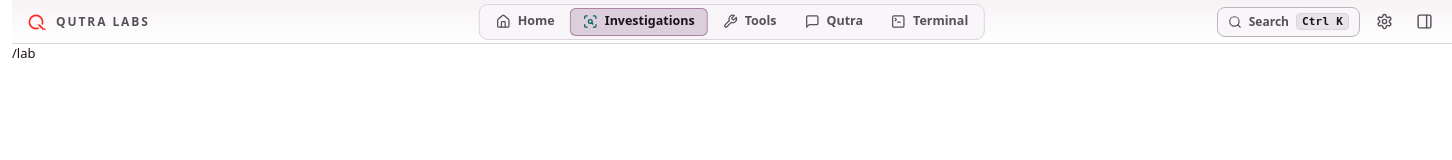
Test case: TopBar › names the product and takes the mark home
The image size is (1452, 160).
Click the button with aria-label "Qutra Labs — Home".
click(88, 22)  # box [20,6,156,38]
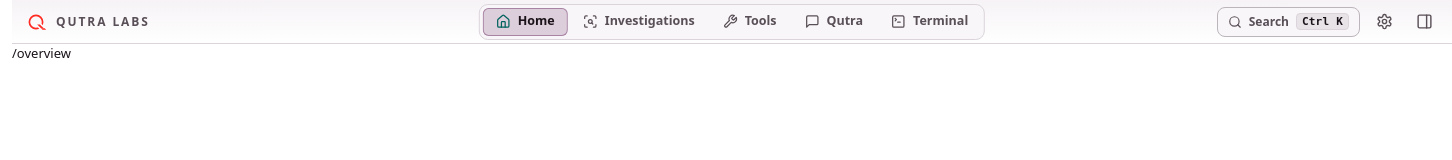
Result: the text with test id "where" reads "/overview" at [12,44,71,62]
